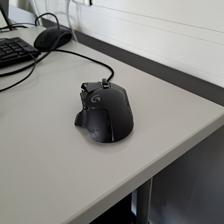mouse: (73, 77, 134, 144)
